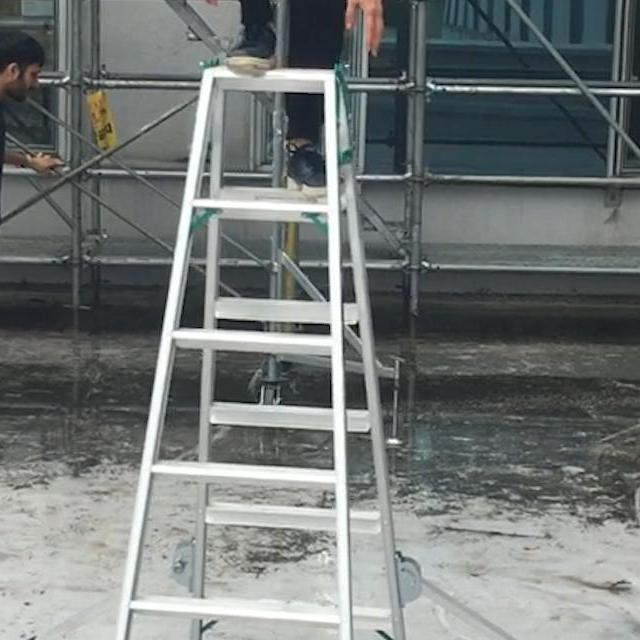Ladder: (0, 59, 598, 640)
NO-Hardhat: (0, 30, 47, 72)
NO-Mask: (4, 75, 35, 101)
Person: (170, 0, 406, 198), (0, 30, 64, 455)
